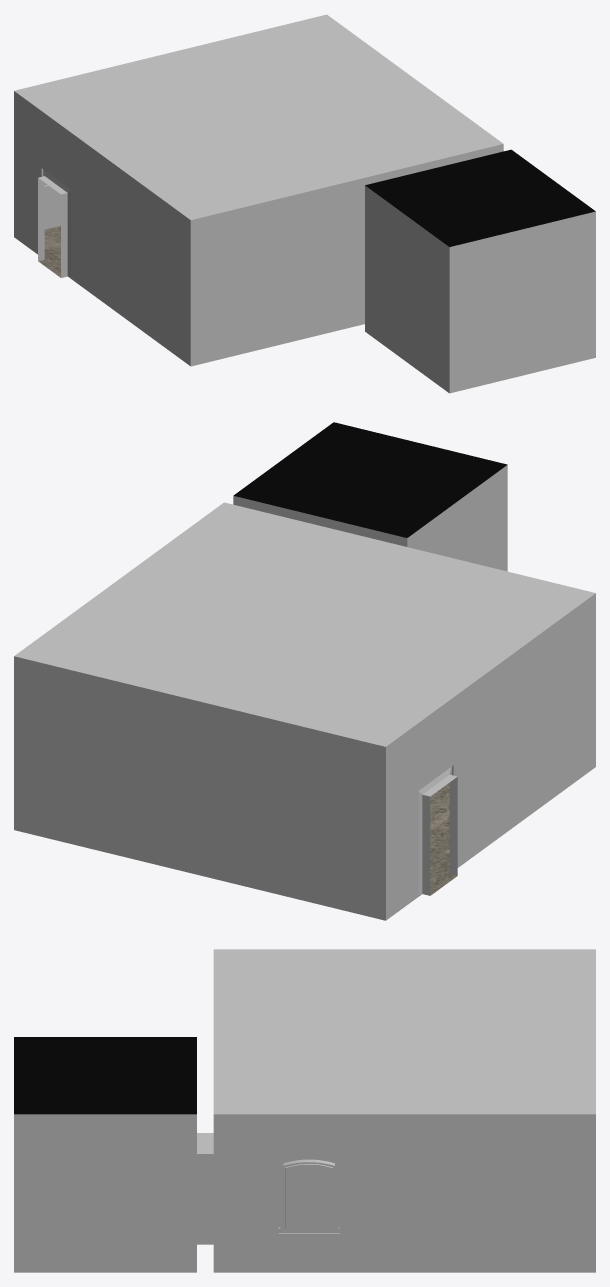
File: SharedRoom_2x3.FBX
3 views of the same model, one above another, from view 1: azimuth 30°, elevation 25°; view 2: azimuth 150°, elevation 25°; view 3: azimuth 270°, elevation 25° (orthographic). The views are drawn at different scales.
Visible parts, largest first — view 1: SharedRoom_2x3; view 2: SharedRoom_2x3; view 3: SharedRoom_2x3.
Boxes of the visible parts, x1,y1,x2,y2 form: SharedRoom_2x3: (14,14,595,393); SharedRoom_2x3: (14,422,595,920); SharedRoom_2x3: (14,949,595,1272).
Size of what is drawn, in the model's own units: 957 by 413 by 1378.
